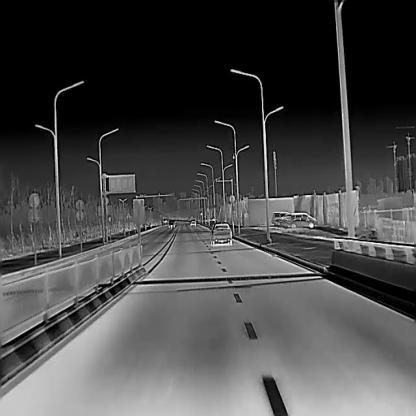car: (210, 223, 232, 245), (288, 212, 316, 224), (287, 217, 313, 227), (271, 211, 287, 225), (189, 218, 197, 226), (168, 219, 174, 228)
